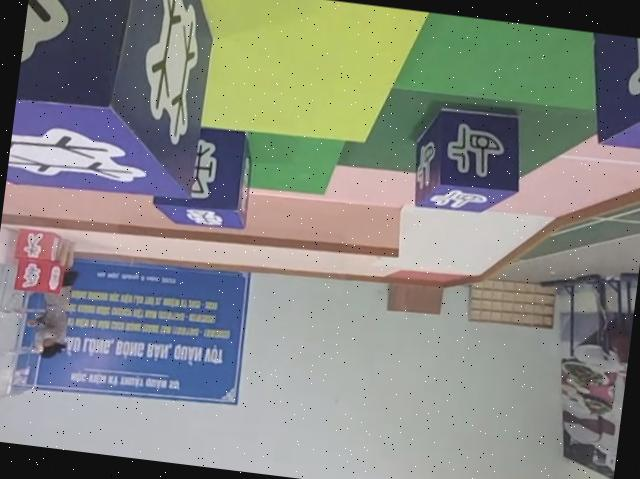R2 Real Blue: (2, 0, 216, 221), (410, 102, 530, 218), (147, 119, 257, 233)
